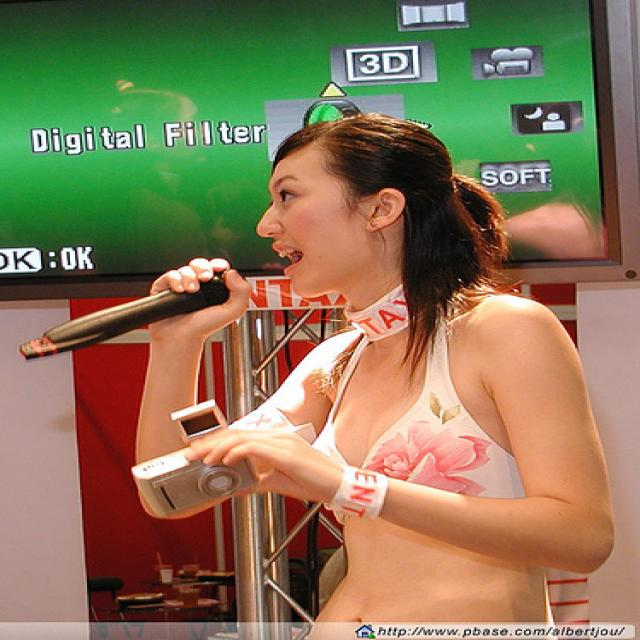person: (134, 111, 616, 640)
tvmonitor: (1, 1, 639, 303)
